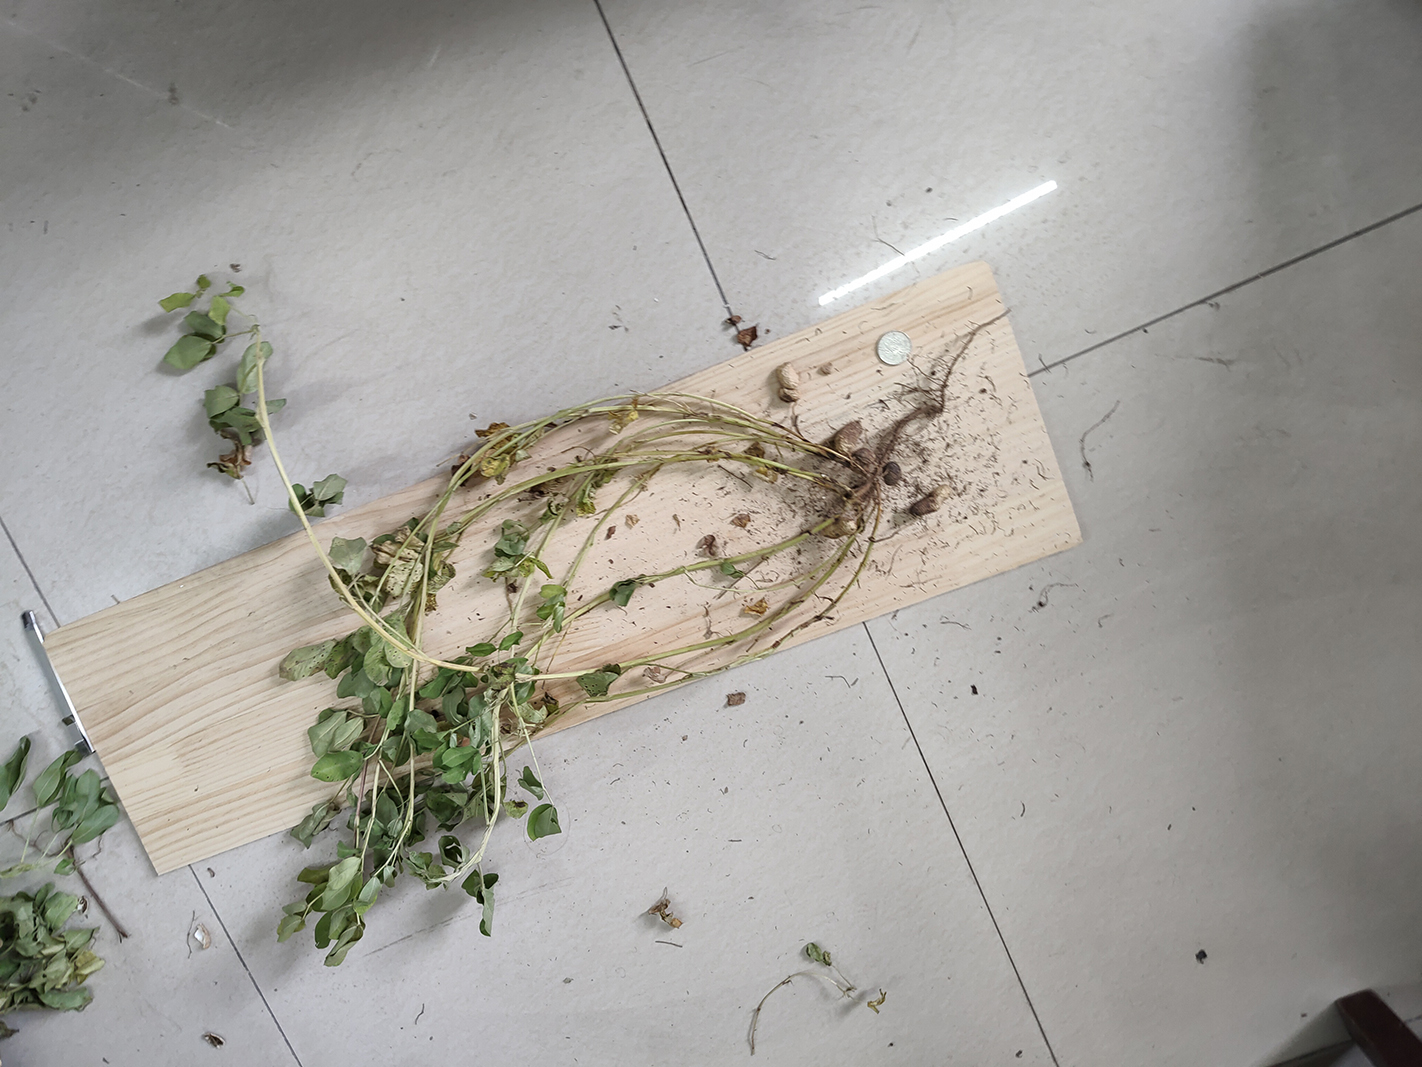h: (775, 360, 801, 403), (821, 517, 858, 538)
l: (909, 484, 951, 517), (835, 420, 863, 454), (883, 461, 902, 486), (853, 449, 877, 466)
